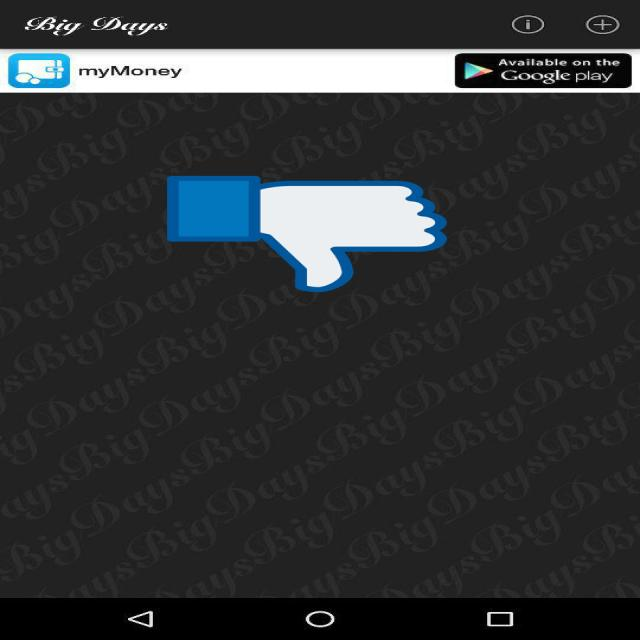obstruction: (167, 173, 447, 295)
